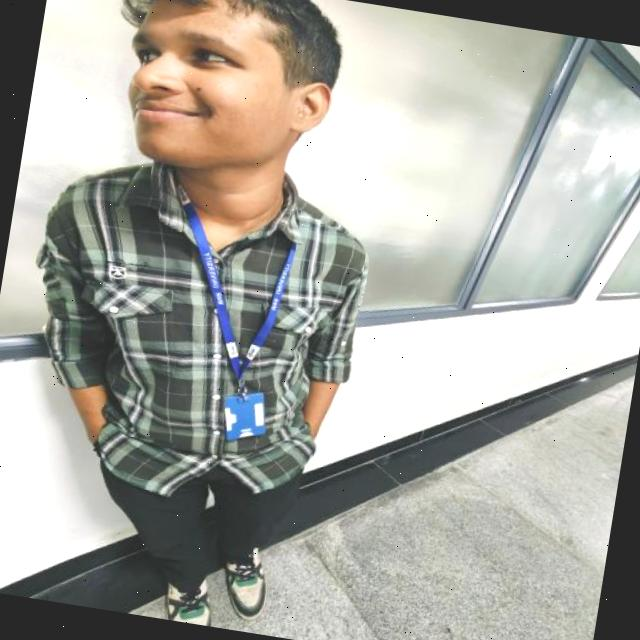Card: (224, 393, 265, 440)
Id strap: (177, 187, 295, 384)
